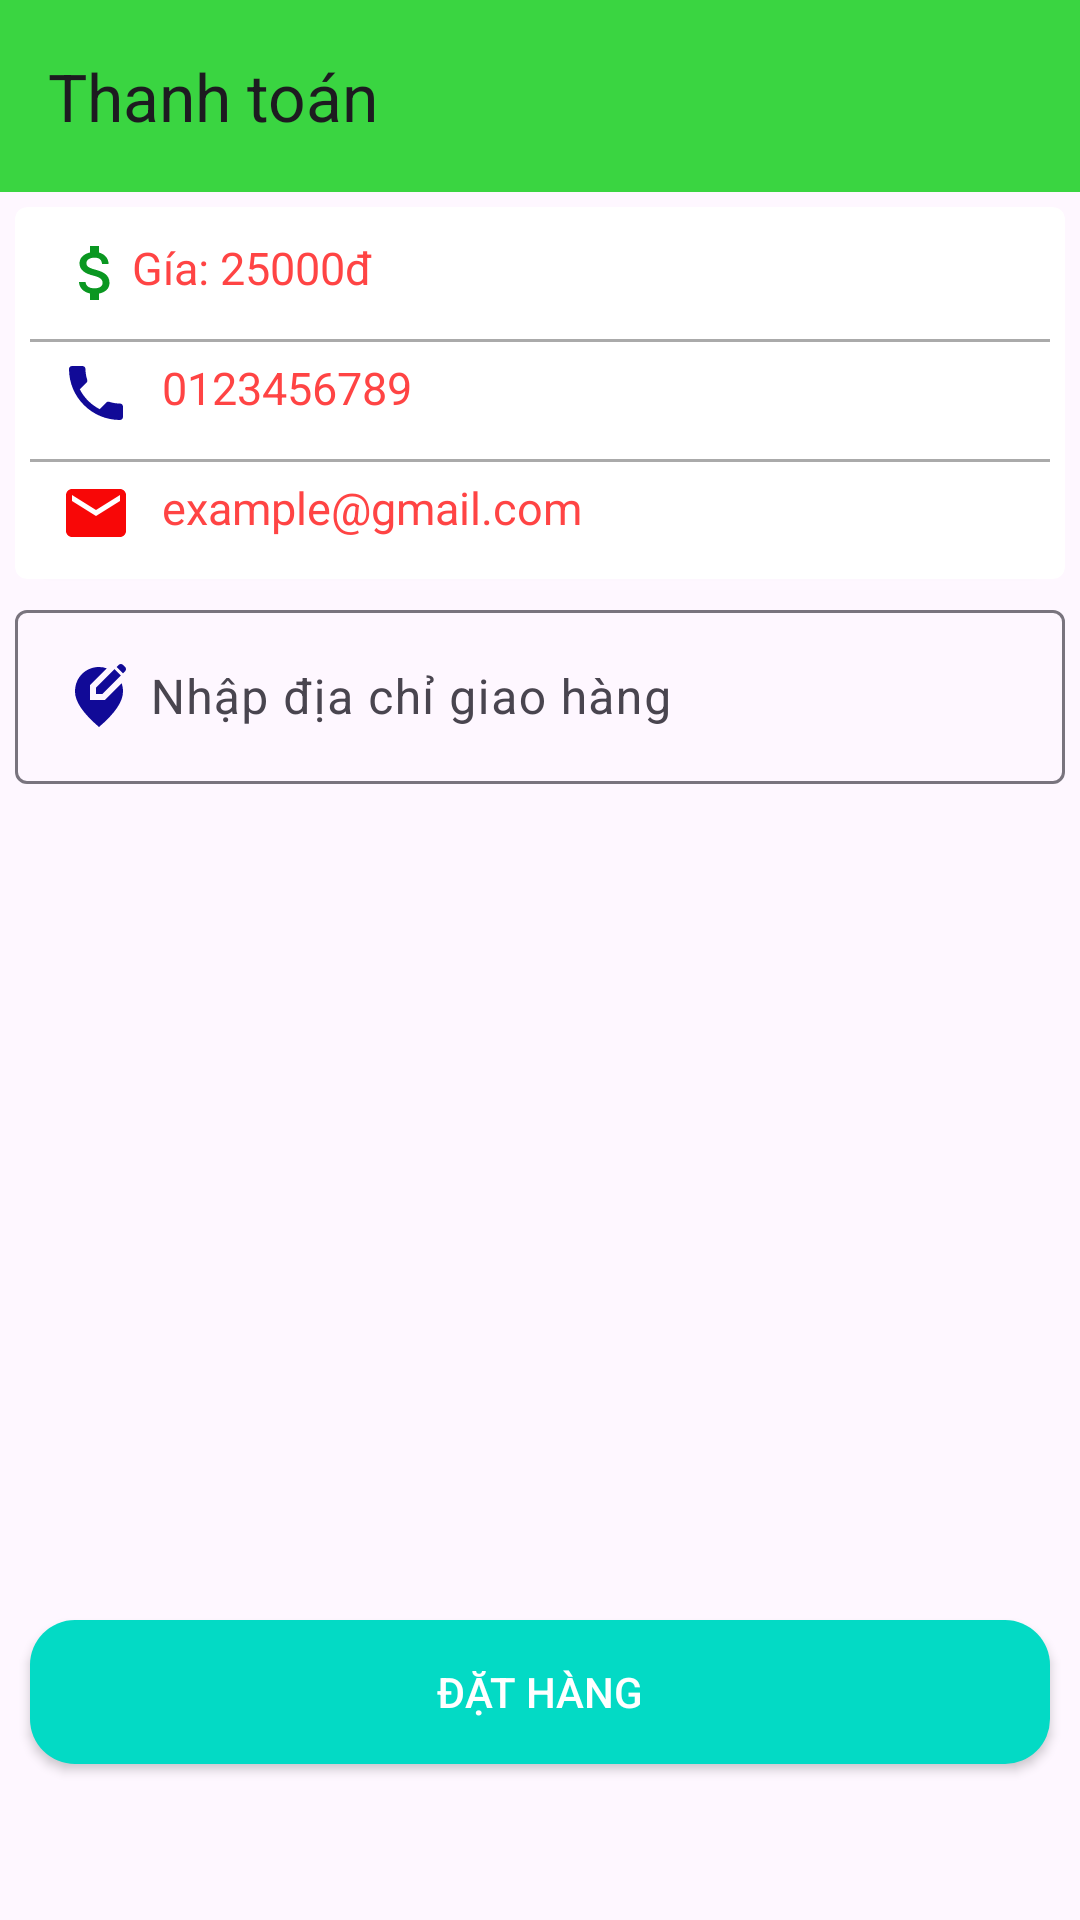

Named icons in this screenshot (1080px x 1920px) and their bounding boxes, (x1, y1, x2, y2):
email: (66, 489, 126, 537)
money: (79, 246, 110, 300)
